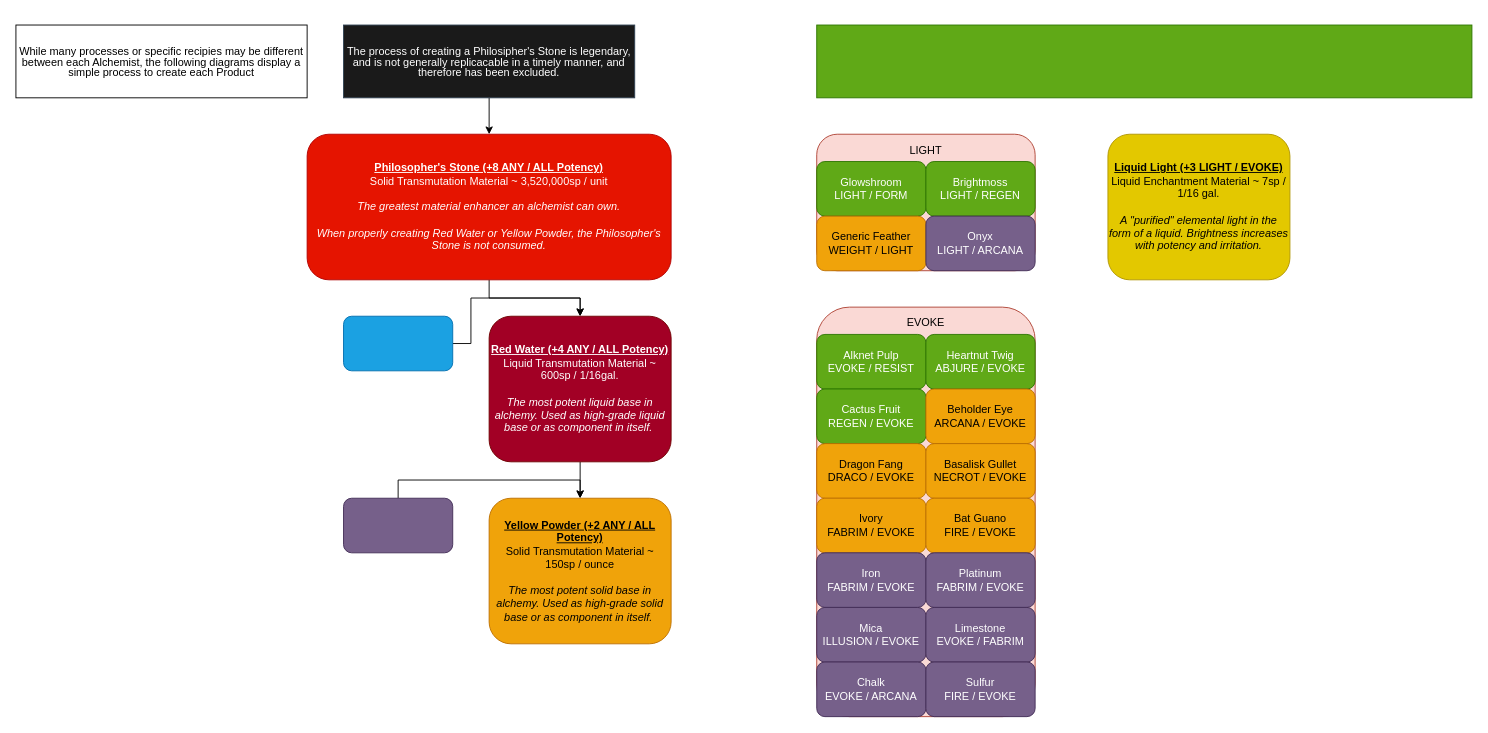
The diagram is 1488 pixels wide and 733 high, and some of its shapes have lost their labels. Here are the shapes that lost their labels. From the top down, the box of each, then its label:
(816, 24, 1472, 98): "Purified" Liquids
(343, 315, 453, 371): Water WATER / FORM
(343, 497, 453, 553): Bone Ash MORTAL / FIRE
